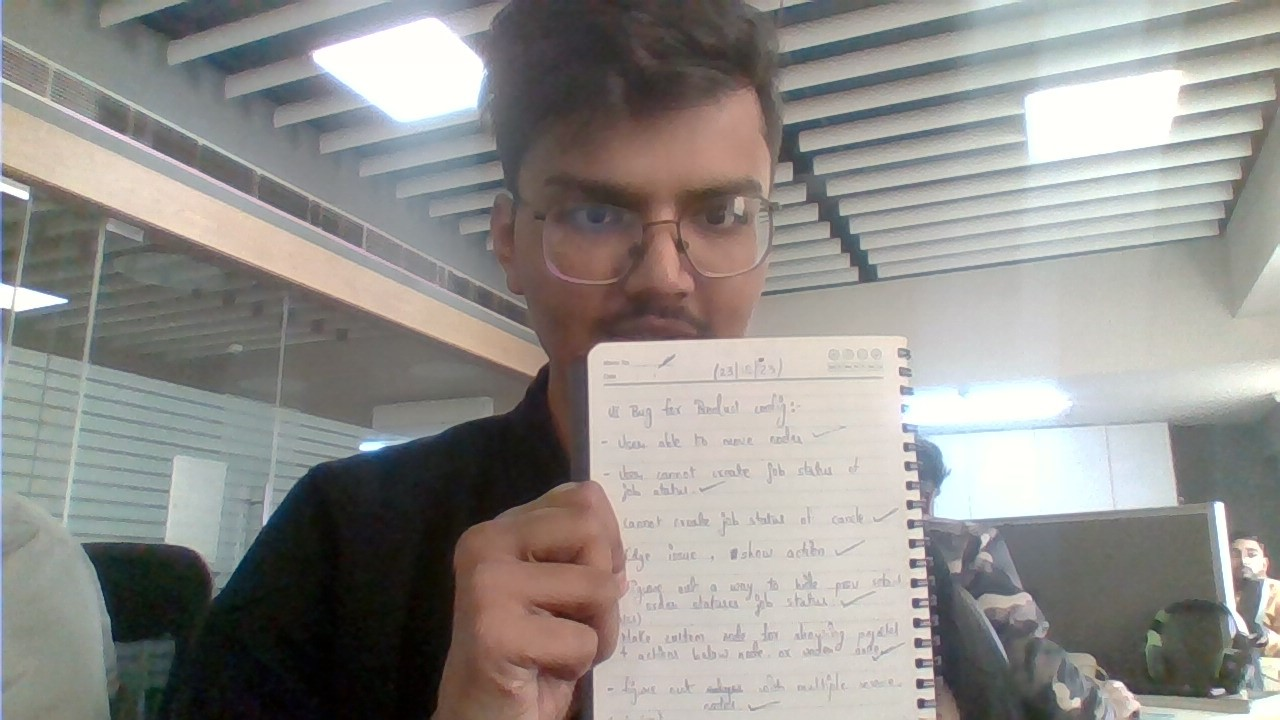partial: (575, 328, 947, 720)
